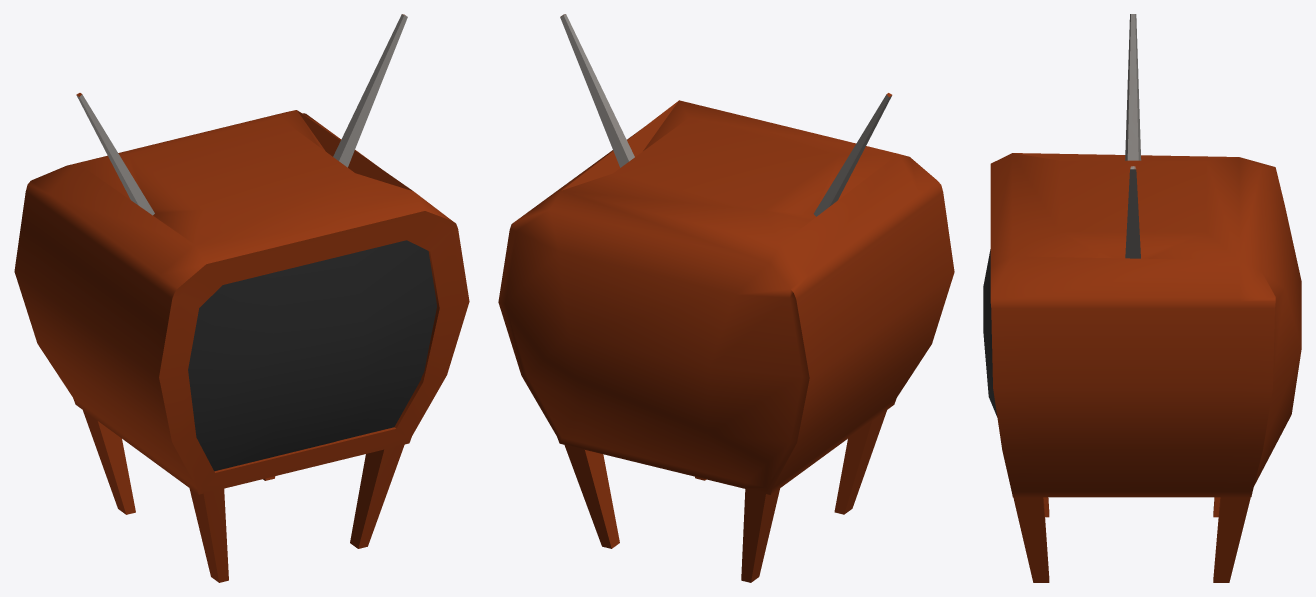
3 views of the same model, side by side, from view 1: azimuth 30°, elevation 25°; view 2: azimuth 150°, elevation 25°; view 3: azimuth 270°, elevation 25° (orthographic). The views are drawn at different scales.
Parts seen in each view (by area): view 1: tv, tvScreen; view 2: tv; view 3: tv, tvScreen.
Part boxes in pixels (x1=…): tv: x1=14, y1=14, x2=469, y2=582; tvScreen: x1=188, y1=240, x2=436, y2=471; tv: x1=498, y1=14, x2=954, y2=582; tv: x1=990, y1=14, x2=1301, y2=582; tvScreen: x1=983, y1=249, x2=997, y2=416.
Bounding box in the file's own units: 3.39 × 4.67 × 2.94.
2 materials, 1 textured.
